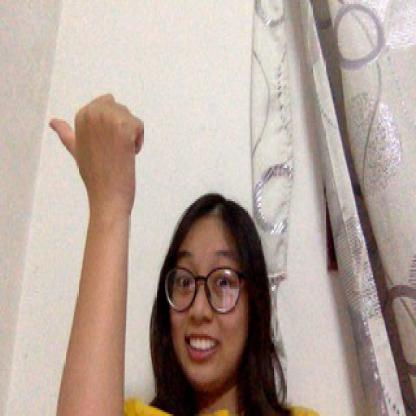right: (47, 92, 144, 211)
